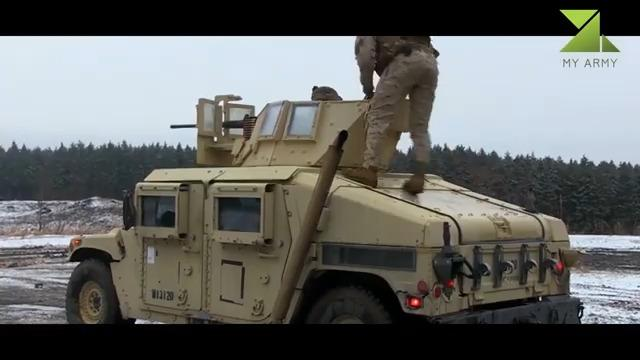MIL_HMMWV: (65, 165, 585, 327), (343, 36, 440, 193)
